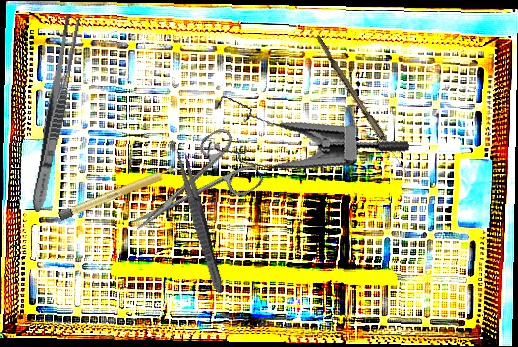Dressing Forceps: (27, 11, 83, 215), (171, 145, 228, 296)
Iris Scissors: (114, 122, 266, 254)
Scalpel Handle: (57, 164, 181, 222)
Speculum: (194, 57, 411, 198)
Surgical Spoon: (312, 34, 412, 178)
